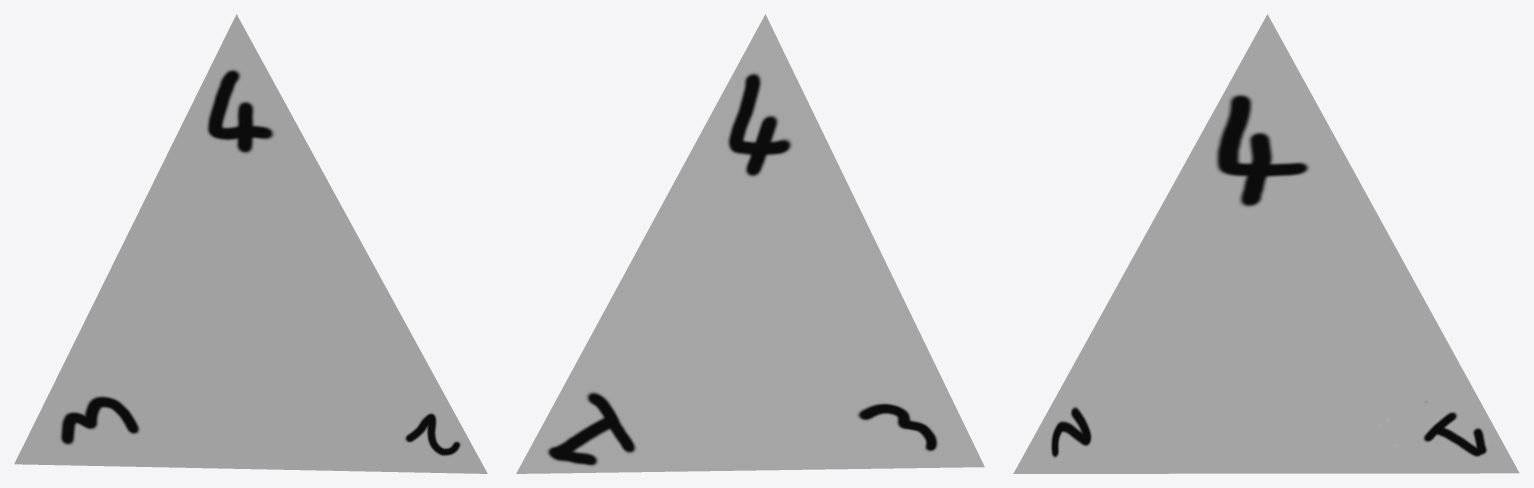
The picture shows the model from 3 angles, left to right: view 1: azimuth 30°, elevation 25°; view 2: azimuth 150°, elevation 25°; view 3: azimuth 270°, elevation 25°; orthographic projection.
Visible parts, largest first — view 1: Plane; view 2: Plane; view 3: Plane.
Boxes of the visible parts, x1,y1,x2,y2 form: Plane: (14, 14, 487, 473); Plane: (516, 14, 984, 473); Plane: (1013, 14, 1519, 473).
Bounding box in the file's own units: 196 × 215 × 248.
1 material, 1 textured.
